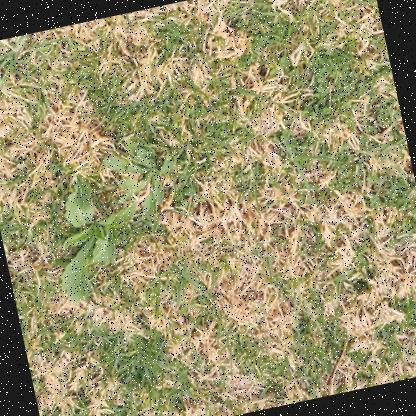Weeds: (38, 164, 155, 305), (99, 128, 189, 226)
